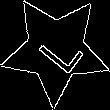L_NW: (27, 22, 84, 77)
